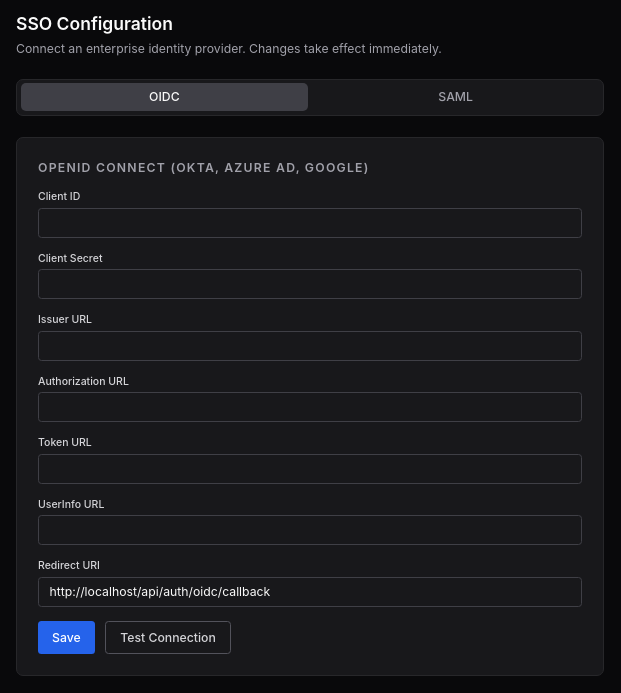
SSOSettingsPage › switches to the SAML form when SAML tab is clicked
What coordinates should you click on to do the following:
click the button "SAML"
I would click on:
 (456, 97)
Its box is x1=312 y1=83 x2=600 y2=111.
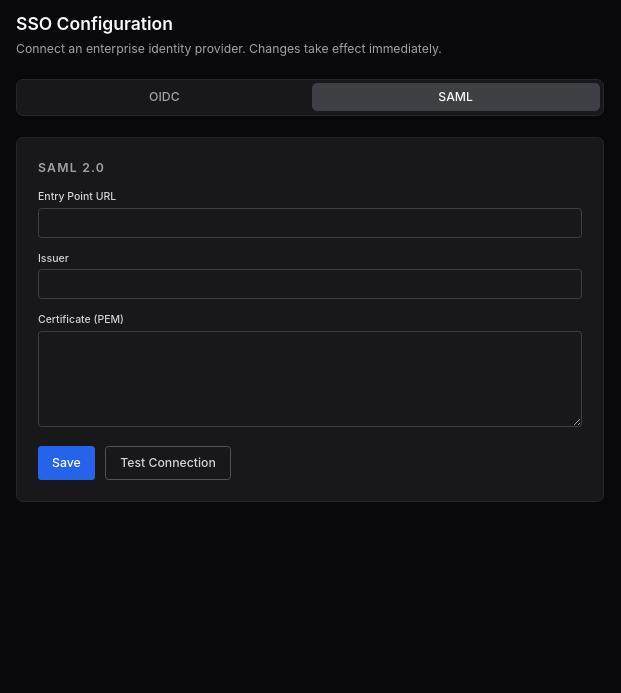
Result: the heading "SAML 2.0" is shown at x1=38 y1=160 x2=105 y2=174
Result: the text "Entry Point URL" is shown at x1=38 y1=190 x2=116 y2=203
Result: the text "Client ID" is gone
